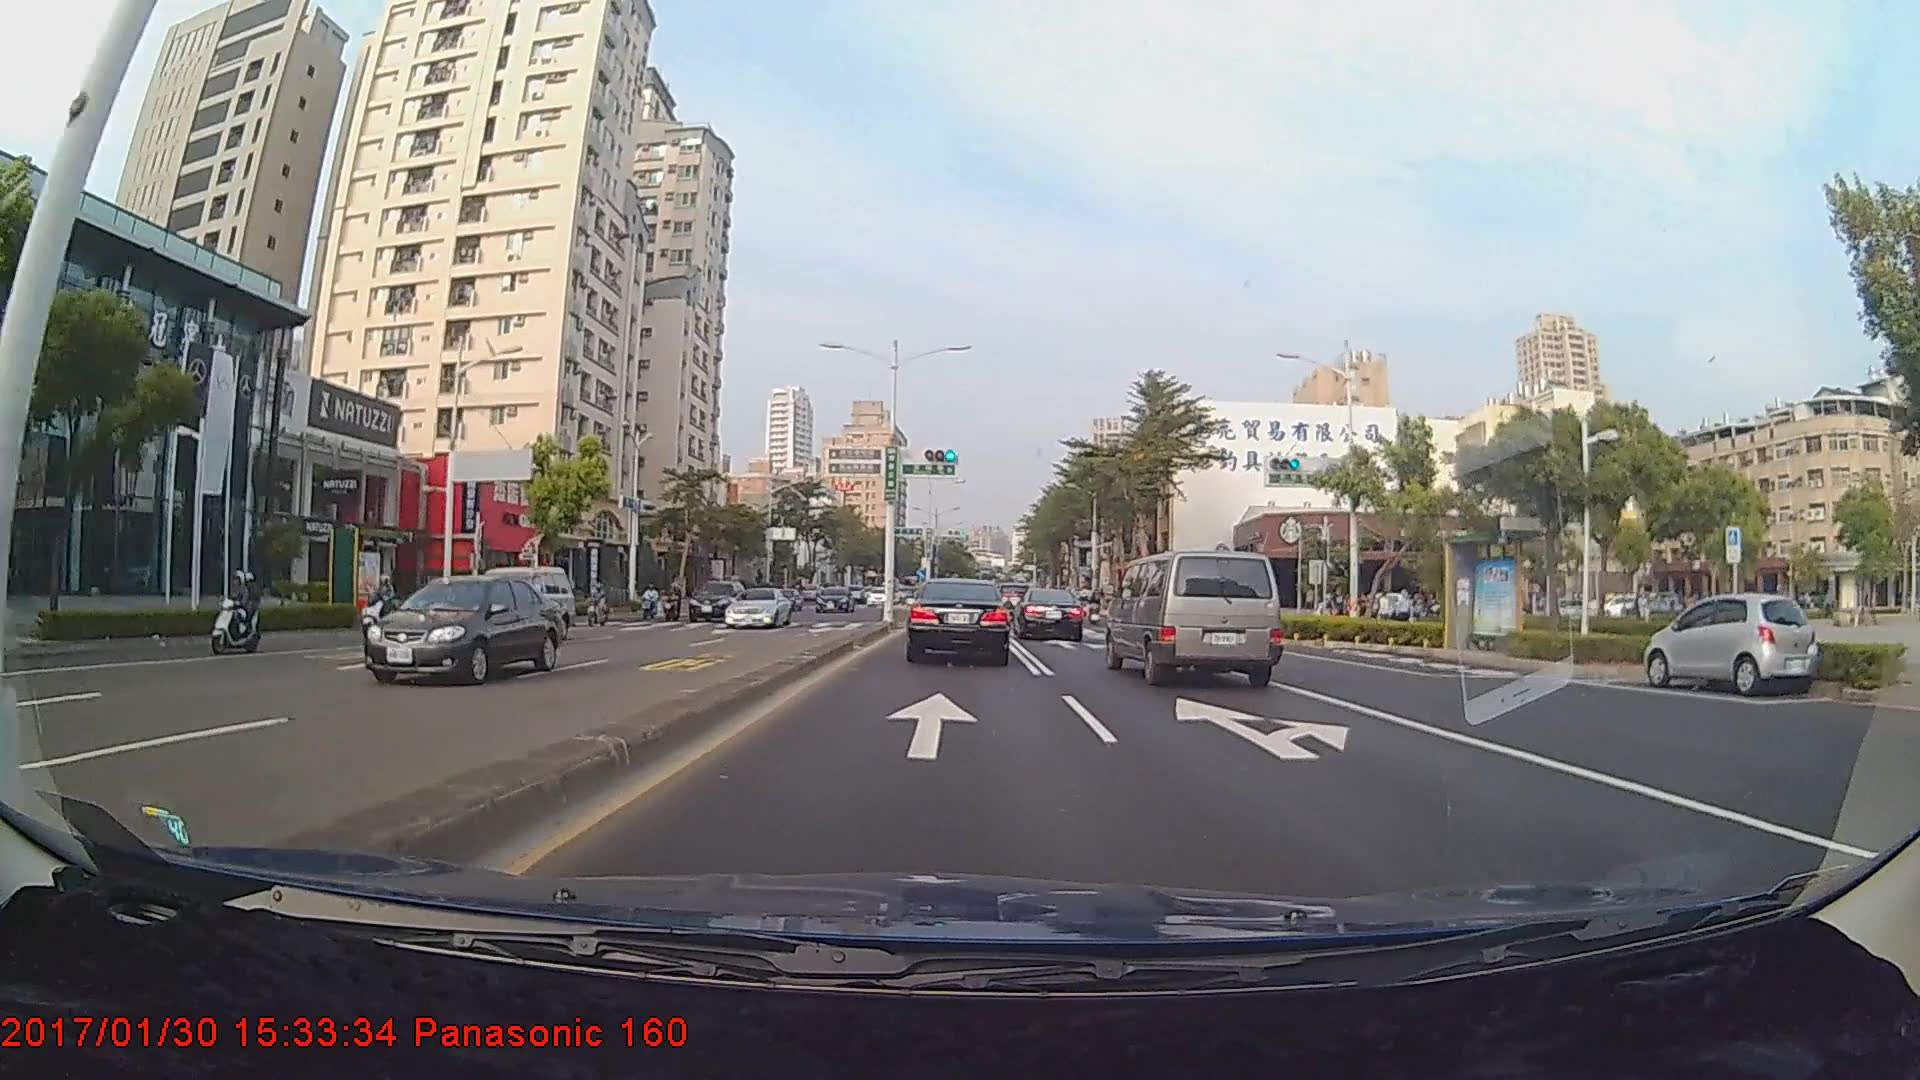rider: (206, 567, 267, 658), (357, 572, 397, 635), (583, 578, 617, 626), (633, 582, 663, 623), (659, 580, 686, 626)
vehicle: (1106, 545, 1284, 691), (358, 572, 564, 686), (1647, 591, 1816, 695), (443, 564, 574, 636), (906, 578, 1009, 663), (1011, 588, 1084, 641), (722, 584, 789, 628), (685, 579, 747, 622), (815, 585, 855, 615)
